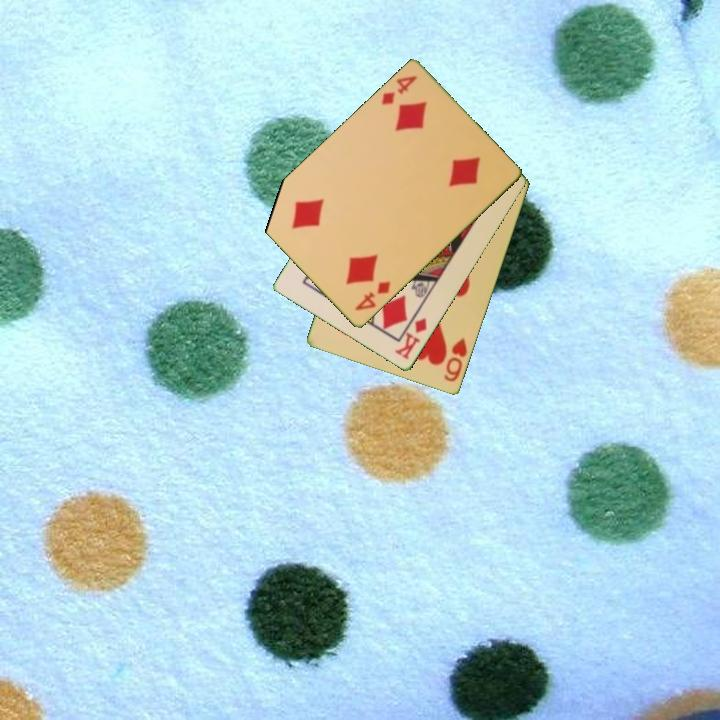4d: (351, 278, 394, 314), (378, 72, 421, 108)
6h: (441, 335, 470, 385)
Kd: (391, 315, 430, 363)
